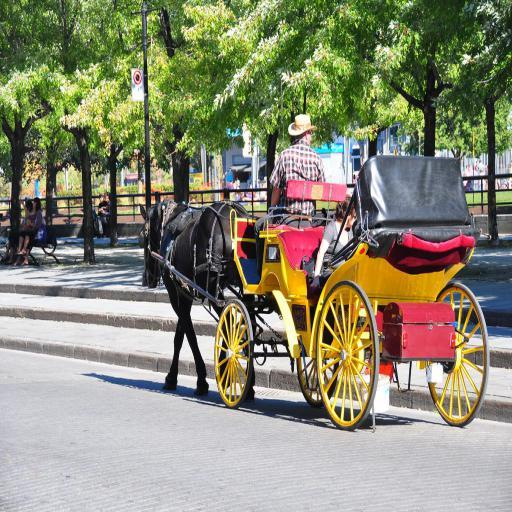Horse: (137, 188, 260, 405)
